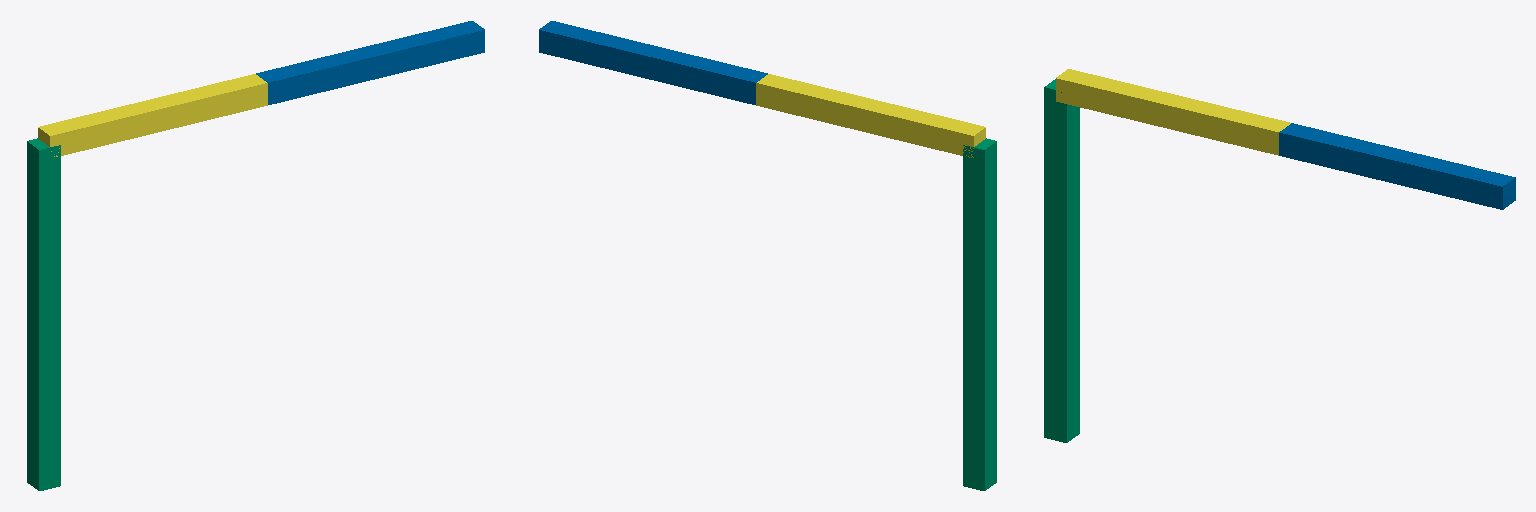
robot.urdf — 2dof:
<?xml version="1.0" ?>
<robot name="2dof" >

<link name="tool0"/>

<link name="base_link" />

<link name="link_1">
  <visual>
    <origin xyz="0 0 0.75" rpy="0 0 0"/>
    <geometry>
      <box size="0.1 0.1 1.5"/>
    </geometry>
  </visual>
</link>

<link name="link_2">
  <visual>
    <origin xyz="0 0 0.5" rpy="0 0 0"/>
    <geometry>
      <box size="0.1 0.1 1.0"/>
    </geometry>
  </visual>
</link>

<link name="link_3">
  <visual>
    <origin xyz="0 0 0.5" rpy="0 0 0"/>
    <geometry>
      <box size="0.1 0.1 1.0"/>
    </geometry>
  </visual>
</link>

  <joint name="joint_1" type="revolute">
    <parent link="base_link" />
    <child link="link_1" />
    <limit effort="30" velocity="1.0" lower="-3.14" upper="3.14" />
    <origin xyz="0 0 0" rpy="0 0 0" />
    <axis xyz="0 0 1" />
  </joint>
	
  <joint name="joint_2" type="revolute">
    <parent link="link_1" />
    <child link="link_2" />
    <limit effort="30" velocity="1.0" lower="-3.14" upper="3.14" />
    <origin xyz="0 0 1.5" rpy="0 1.57 0" />
    <axis xyz="0 1 0" />
  </joint>

 <joint name="joint_3" type="revolute">
    <parent link="link_2" />
    <child link="link_3" />
    <limit effort="30" velocity="1.0" lower="-3.14" upper="3.14" />
    <origin xyz="0 0 1" rpy="0 0 0" />
    <axis xyz="0 1 0" />
  </joint>

<joint name="joint_3-tool0" type="revolute">
    <parent link="link_3" />
    <child link="tool0" />
    <limit effort="30" velocity="1.0" lower="-6.28318" upper="6.28318" />
    <origin xyz="0 0 1" rpy="0 0 0" />
    <axis xyz="0 0 1" />
  </joint>

</robot>

--- What the picture shows (computed from the rendered views, not written in the file) ---
The picture shows the robot from 3 angles, left to right: view 1: azimuth 30°, elevation 25°; view 2: azimuth 150°, elevation 25°; view 3: azimuth 330°, elevation 25°; orthographic projection.
Model 2dof with 5 links and 4 joints (4 revolute), rooted at base_link, posed every joint at zero.
Links seen in each view (by area): view 1: link_1, link_2, link_3; view 2: link_1, link_2, link_3; view 3: link_1, link_3, link_2.
Boxes of the visible links, x1,y1,x2,y2 form: link_1: (27,138,60,490); link_2: (38,74,267,156); link_3: (256,21,484,104); link_1: (963,138,996,490); link_2: (756,74,985,157); link_3: (539,21,767,104); link_1: (1044,79,1079,442); link_3: (1279,123,1515,209); link_2: (1056,69,1290,155).
Bounding box of the posed robot: 2.05 × 0.1 × 1.55 m (x, y, z).
Geometry: primitives only (box / cylinder / sphere), no mesh files.